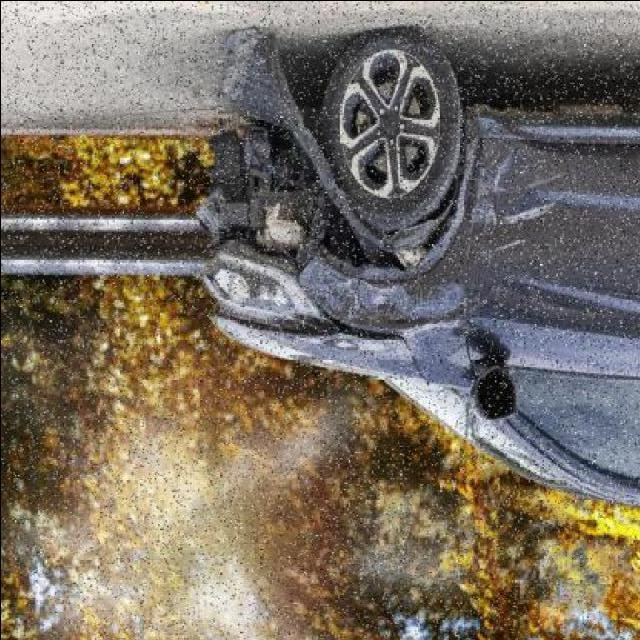doorouter-dent: (473, 135, 640, 369)
fender-dent: (313, 229, 472, 365)
front-bumper-dent: (174, 128, 310, 338)
